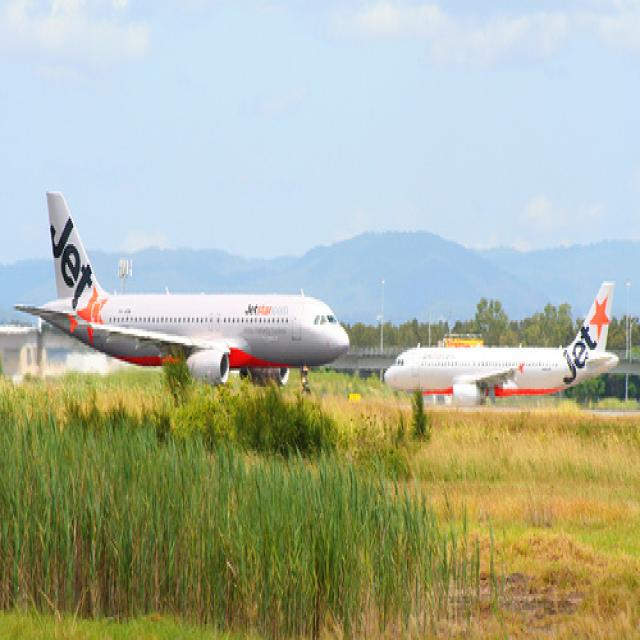aeroplane: (6, 188, 354, 402), (381, 266, 618, 418)
